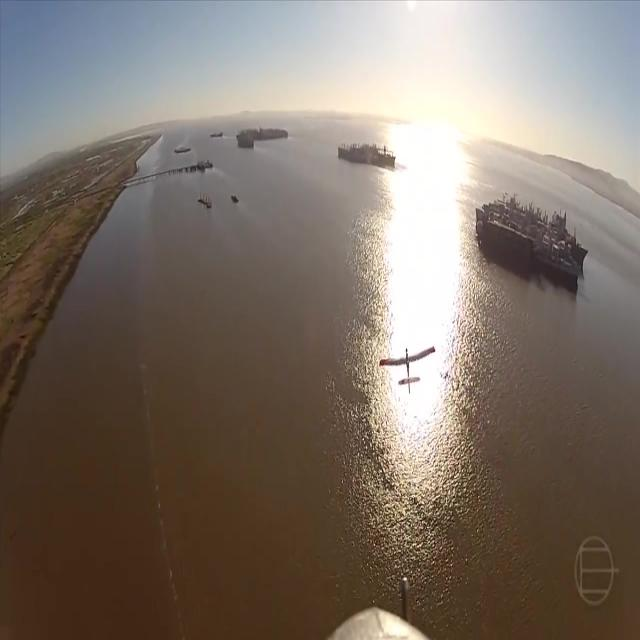iha: (379, 345, 436, 395)
